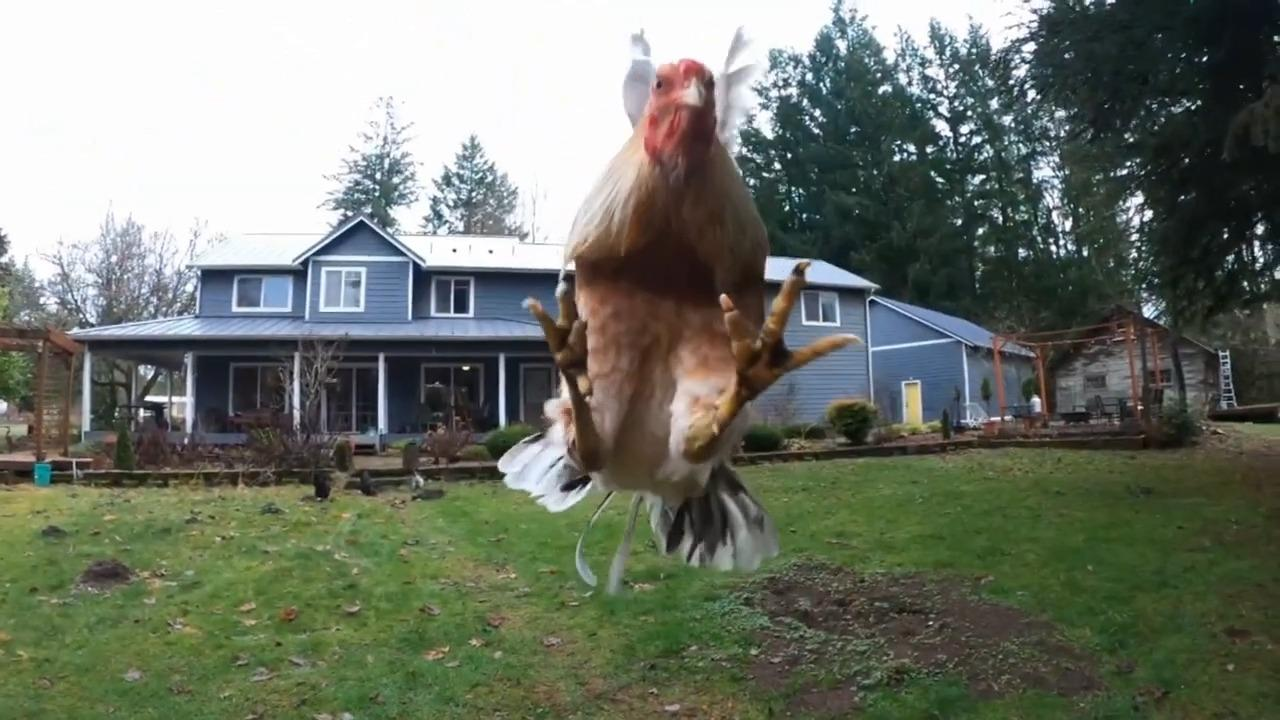Normal: (512, 28, 854, 566)
